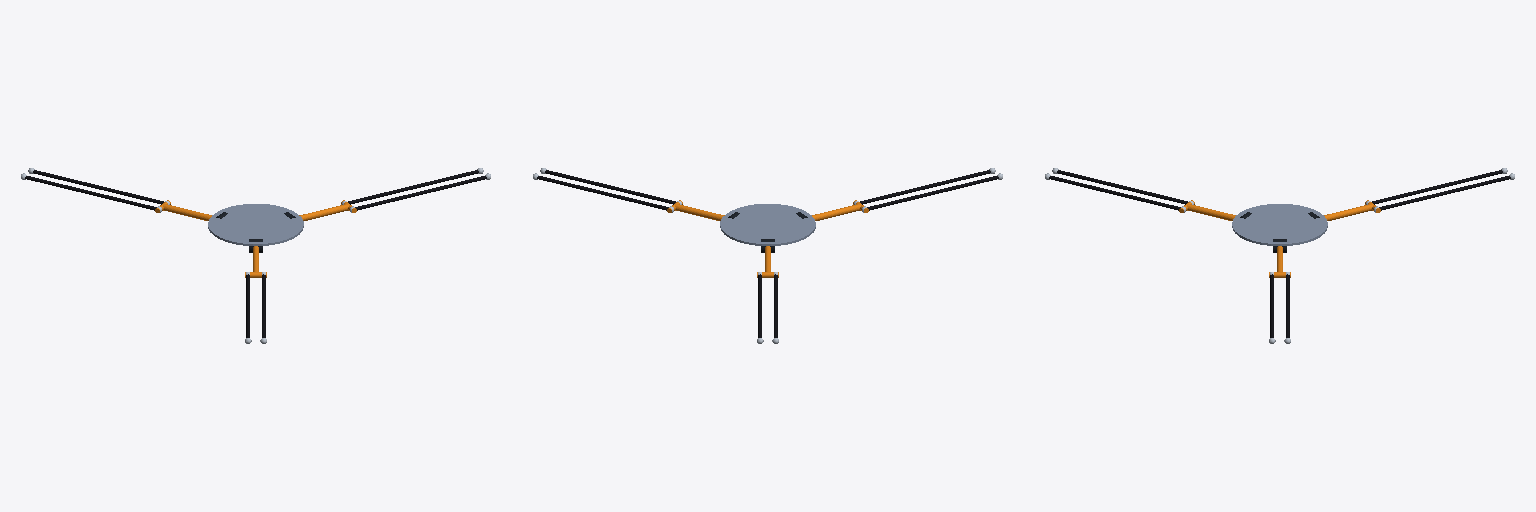
The robot description file, URDF, robot "delta_robot":
<?xml version="1.0"?>
<!-- generated by deltarobot.urdf — R=0.2 r=0.05 L=0.35 l=0.8 w=0.08 motor=ac_servo_400w tool=suction_40 -->
<robot name="delta_robot">
  <material name="frame"><color rgba="0.55 0.6 0.68 1"/></material>
  <material name="motor"><color rgba="0.15 0.17 0.2 1"/></material>
  <material name="arm"><color rgba="0.9 0.55 0.15 1"/></material>
  <material name="rod"><color rgba="0.12 0.12 0.14 1"/></material>
  <material name="joint"><color rgba="0.75 0.78 0.82 1"/></material>
  <material name="plate"><color rgba="0.25 0.55 0.9 1"/></material>
  <material name="tool"><color rgba="0.2 0.75 0.5 1"/></material>
  <link name="base_link">
    <visual>
      <origin xyz="0 0 0.026" rpy="0 0 0"/>
      <geometry><cylinder radius="0.246" length="0.012"/></geometry>
      <material name="frame"/>
    </visual>
    <visual>
      <origin xyz="0.2 0 0" rpy="1.570796 0 0"/>
      <geometry><cylinder radius="0.036" length="0.07"/></geometry>
      <material name="motor"/>
    </visual>
    <visual>
      <origin xyz="-0.1 0.173205 0" rpy="1.570796 0 2.094395"/>
      <geometry><cylinder radius="0.036" length="0.07"/></geometry>
      <material name="motor"/>
    </visual>
    <visual>
      <origin xyz="-0.1 -0.173205 0" rpy="1.570796 0 4.18879"/>
      <geometry><cylinder radius="0.036" length="0.07"/></geometry>
      <material name="motor"/>
    </visual>
    <inertial>
      <origin xyz="0 0 0.02" rpy="0 0 0"/>
      <mass value="4.1"/>
      <inertia ixx="0.01" ixy="0" ixz="0" iyy="0.01" iyz="0" izz="0.02"/>
    </inertial>
  </link>
  <joint name="motor1_joint" type="revolute">
    <parent link="base_link"/>
    <child link="upper_arm1"/>
    <origin xyz="0.2 0 0" rpy="0 0 0"/>
    <axis xyz="0 1 0"/>
    <limit lower="-0.7" upper="1.5" effort="68.76" velocity="26.18"/>
  </joint>
  <link name="upper_arm1">
    <visual>
      <origin xyz="0.175 0 0" rpy="0 1.570796 0"/>
      <geometry><cylinder radius="0.0175" length="0.35"/></geometry>
      <material name="arm"/>
    </visual>
    <visual>
      <origin xyz="0.35 0 0" rpy="1.570796 0 0"/>
      <geometry><cylinder radius="0.014" length="0.115"/></geometry>
      <material name="arm"/>
    </visual>
    <inertial>
      <origin xyz="0.175 0 0" rpy="0 0 0"/>
      <mass value="0.04935"/>
      <inertia ixx="0.00001" ixy="0" ixz="0" iyy="0.000365" iyz="0" izz="0.000365"/>
    </inertial>
  </link>
  <joint name="elbow1a_pitch" type="revolute">
    <parent link="upper_arm1"/>
    <child link="elbow1a_link"/>
    <origin xyz="0.35 0.04 0" rpy="0 0 0"/>
    <axis xyz="0 1 0"/>
    <limit lower="-3.141593" upper="3.141593" effort="0" velocity="0"/>
  </joint>
  <link name="elbow1a_link"/>
  <joint name="elbow1a_yaw" type="revolute">
    <parent link="elbow1a_link"/>
    <child link="forearm1a"/>
    <origin xyz="0 0 0" rpy="0 0 0"/>
    <axis xyz="0 0 1"/>
    <limit lower="-1.570796" upper="1.570796" effort="0" velocity="0"/>
  </joint>
  <link name="forearm1a">
    <visual>
      <origin xyz="0.4 0 0" rpy="0 1.570796 0"/>
      <geometry><cylinder radius="0.0096" length="0.8"/></geometry>
      <material name="rod"/>
    </visual>
    <visual>
      <origin xyz="0 0 0" rpy="0 0 0"/>
      <geometry><sphere radius="0.01728"/></geometry>
      <material name="joint"/>
    </visual>
    <visual>
      <origin xyz="0.8 0 0" rpy="0 0 0"/>
      <geometry><sphere radius="0.01728"/></geometry>
      <material name="joint"/>
    </visual>
    <inertial>
      <origin xyz="0.4 0 0" rpy="0 0 0"/>
      <mass value="0.044"/>
      <inertia ixx="0.000001" ixy="0" ixz="0" iyy="0.002347" iyz="0" izz="0.002347"/>
    </inertial>
  </link>
  <joint name="elbow1b_pitch" type="revolute">
    <parent link="upper_arm1"/>
    <child link="elbow1b_link"/>
    <origin xyz="0.35 -0.04 0" rpy="0 0 0"/>
    <axis xyz="0 1 0"/>
    <limit lower="-3.141593" upper="3.141593" effort="0" velocity="0"/>
    <mimic joint="elbow1a_pitch" multiplier="1" offset="0"/>
  </joint>
  <link name="elbow1b_link"/>
  <joint name="elbow1b_yaw" type="revolute">
    <parent link="elbow1b_link"/>
    <child link="forearm1b"/>
    <origin xyz="0 0 0" rpy="0 0 0"/>
    <axis xyz="0 0 1"/>
    <limit lower="-1.570796" upper="1.570796" effort="0" velocity="0"/>
    <mimic joint="elbow1a_yaw" multiplier="1" offset="0"/>
  </joint>
  <link name="forearm1b">
    <visual>
      <origin xyz="0.4 0 0" rpy="0 1.570796 0"/>
      <geometry><cylinder radius="0.0096" length="0.8"/></geometry>
      <material name="rod"/>
    </visual>
    <visual>
      <origin xyz="0 0 0" rpy="0 0 0"/>
      <geometry><sphere radius="0.01728"/></geometry>
      <material name="joint"/>
    </visual>
    <visual>
      <origin xyz="0.8 0 0" rpy="0 0 0"/>
      <geometry><sphere radius="0.01728"/></geometry>
      <material name="joint"/>
    </visual>
    <inertial>
      <origin xyz="0.4 0 0" rpy="0 0 0"/>
      <mass value="0.044"/>
      <inertia ixx="0.000001" ixy="0" ixz="0" iyy="0.002347" iyz="0" izz="0.002347"/>
    </inertial>
  </link>
  <joint name="motor2_joint" type="revolute">
    <parent link="base_link"/>
    <child link="upper_arm2"/>
    <origin xyz="-0.1 0.173205 0" rpy="0 0 2.094395"/>
    <axis xyz="0 1 0"/>
    <limit lower="-0.7" upper="1.5" effort="68.76" velocity="26.18"/>
  </joint>
  <link name="upper_arm2">
    <visual>
      <origin xyz="0.175 0 0" rpy="0 1.570796 0"/>
      <geometry><cylinder radius="0.0175" length="0.35"/></geometry>
      <material name="arm"/>
    </visual>
    <visual>
      <origin xyz="0.35 0 0" rpy="1.570796 0 0"/>
      <geometry><cylinder radius="0.014" length="0.115"/></geometry>
      <material name="arm"/>
    </visual>
    <inertial>
      <origin xyz="0.175 0 0" rpy="0 0 0"/>
      <mass value="0.04935"/>
      <inertia ixx="0.00001" ixy="0" ixz="0" iyy="0.000365" iyz="0" izz="0.000365"/>
    </inertial>
  </link>
  <joint name="elbow2a_pitch" type="revolute">
    <parent link="upper_arm2"/>
    <child link="elbow2a_link"/>
    <origin xyz="0.35 0.04 0" rpy="0 0 0"/>
    <axis xyz="0 1 0"/>
    <limit lower="-3.141593" upper="3.141593" effort="0" velocity="0"/>
  </joint>
  <link name="elbow2a_link"/>
  <joint name="elbow2a_yaw" type="revolute">
    <parent link="elbow2a_link"/>
    <child link="forearm2a"/>
    <origin xyz="0 0 0" rpy="0 0 0"/>
    <axis xyz="0 0 1"/>
    <limit lower="-1.570796" upper="1.570796" effort="0" velocity="0"/>
  </joint>
  <link name="forearm2a">
    <visual>
      <origin xyz="0.4 0 0" rpy="0 1.570796 0"/>
      <geometry><cylinder radius="0.0096" length="0.8"/></geometry>
      <material name="rod"/>
    </visual>
    <visual>
      <origin xyz="0 0 0" rpy="0 0 0"/>
      <geometry><sphere radius="0.01728"/></geometry>
      <material name="joint"/>
    </visual>
    <visual>
      <origin xyz="0.8 0 0" rpy="0 0 0"/>
      <geometry><sphere radius="0.01728"/></geometry>
      <material name="joint"/>
    </visual>
    <inertial>
      <origin xyz="0.4 0 0" rpy="0 0 0"/>
      <mass value="0.044"/>
      <inertia ixx="0.000001" ixy="0" ixz="0" iyy="0.002347" iyz="0" izz="0.002347"/>
    </inertial>
  </link>
  <joint name="elbow2b_pitch" type="revolute">
    <parent link="upper_arm2"/>
    <child link="elbow2b_link"/>
    <origin xyz="0.35 -0.04 0" rpy="0 0 0"/>
    <axis xyz="0 1 0"/>
    <limit lower="-3.141593" upper="3.141593" effort="0" velocity="0"/>
    <mimic joint="elbow2a_pitch" multiplier="1" offset="0"/>
  </joint>
  <link name="elbow2b_link"/>
  <joint name="elbow2b_yaw" type="revolute">
    <parent link="elbow2b_link"/>
    <child link="forearm2b"/>
    <origin xyz="0 0 0" rpy="0 0 0"/>
    <axis xyz="0 0 1"/>
    <limit lower="-1.570796" upper="1.570796" effort="0" velocity="0"/>
    <mimic joint="elbow2a_yaw" multiplier="1" offset="0"/>
  </joint>
  <link name="forearm2b">
    <visual>
      <origin xyz="0.4 0 0" rpy="0 1.570796 0"/>
      <geometry><cylinder radius="0.0096" length="0.8"/></geometry>
      <material name="rod"/>
    </visual>
    <visual>
      <origin xyz="0 0 0" rpy="0 0 0"/>
      <geometry><sphere radius="0.01728"/></geometry>
      <material name="joint"/>
    </visual>
    <visual>
      <origin xyz="0.8 0 0" rpy="0 0 0"/>
      <geometry><sphere radius="0.01728"/></geometry>
      <material name="joint"/>
    </visual>
    <inertial>
      <origin xyz="0.4 0 0" rpy="0 0 0"/>
      <mass value="0.044"/>
      <inertia ixx="0.000001" ixy="0" ixz="0" iyy="0.002347" iyz="0" izz="0.002347"/>
    </inertial>
  </link>
  <joint name="motor3_joint" type="revolute">
    <parent link="base_link"/>
    <child link="upper_arm3"/>
    <origin xyz="-0.1 -0.173205 0" rpy="0 0 4.18879"/>
    <axis xyz="0 1 0"/>
    <limit lower="-0.7" upper="1.5" effort="68.76" velocity="26.18"/>
  </joint>
  <link name="upper_arm3">
    <visual>
      <origin xyz="0.175 0 0" rpy="0 1.570796 0"/>
      <geometry><cylinder radius="0.0175" length="0.35"/></geometry>
      <material name="arm"/>
    </visual>
    <visual>
      <origin xyz="0.35 0 0" rpy="1.570796 0 0"/>
      <geometry><cylinder radius="0.014" length="0.115"/></geometry>
      <material name="arm"/>
    </visual>
    <inertial>
      <origin xyz="0.175 0 0" rpy="0 0 0"/>
      <mass value="0.04935"/>
      <inertia ixx="0.00001" ixy="0" ixz="0" iyy="0.000365" iyz="0" izz="0.000365"/>
    </inertial>
  </link>
  <joint name="elbow3a_pitch" type="revolute">
    <parent link="upper_arm3"/>
    <child link="elbow3a_link"/>
    <origin xyz="0.35 0.04 0" rpy="0 0 0"/>
    <axis xyz="0 1 0"/>
    <limit lower="-3.141593" upper="3.141593" effort="0" velocity="0"/>
  </joint>
  <link name="elbow3a_link"/>
  <joint name="elbow3a_yaw" type="revolute">
    <parent link="elbow3a_link"/>
    <child link="forearm3a"/>
    <origin xyz="0 0 0" rpy="0 0 0"/>
    <axis xyz="0 0 1"/>
    <limit lower="-1.570796" upper="1.570796" effort="0" velocity="0"/>
  </joint>
  <link name="forearm3a">
    <visual>
      <origin xyz="0.4 0 0" rpy="0 1.570796 0"/>
      <geometry><cylinder radius="0.0096" length="0.8"/></geometry>
      <material name="rod"/>
    </visual>
    <visual>
      <origin xyz="0 0 0" rpy="0 0 0"/>
      <geometry><sphere radius="0.01728"/></geometry>
      <material name="joint"/>
    </visual>
    <visual>
      <origin xyz="0.8 0 0" rpy="0 0 0"/>
      <geometry><sphere radius="0.01728"/></geometry>
      <material name="joint"/>
    </visual>
    <inertial>
      <origin xyz="0.4 0 0" rpy="0 0 0"/>
      <mass value="0.044"/>
      <inertia ixx="0.000001" ixy="0" ixz="0" iyy="0.002347" iyz="0" izz="0.002347"/>
    </inertial>
  </link>
  <joint name="elbow3b_pitch" type="revolute">
    <parent link="upper_arm3"/>
    <child link="elbow3b_link"/>
    <origin xyz="0.35 -0.04 0" rpy="0 0 0"/>
    <axis xyz="0 1 0"/>
    <limit lower="-3.141593" upper="3.141593" effort="0" velocity="0"/>
    <mimic joint="elbow3a_pitch" multiplier="1" offset="0"/>
  </joint>
  <link name="elbow3b_link"/>
  <joint name="elbow3b_yaw" type="revolute">
    <parent link="elbow3b_link"/>
    <child link="forearm3b"/>
    <origin xyz="0 0 0" rpy="0 0 0"/>
    <axis xyz="0 0 1"/>
    <limit lower="-1.570796" upper="1.570796" effort="0" velocity="0"/>
    <mimic joint="elbow3a_yaw" multiplier="1" offset="0"/>
  </joint>
  <link name="forearm3b">
    <visual>
      <origin xyz="0.4 0 0" rpy="0 1.570796 0"/>
      <geometry><cylinder radius="0.0096" length="0.8"/></geometry>
      <material name="rod"/>
    </visual>
    <visual>
      <origin xyz="0 0 0" rpy="0 0 0"/>
      <geometry><sphere radius="0.01728"/></geometry>
      <material name="joint"/>
    </visual>
    <visual>
      <origin xyz="0.8 0 0" rpy="0 0 0"/>
      <geometry><sphere radius="0.01728"/></geometry>
      <material name="joint"/>
    </visual>
    <inertial>
      <origin xyz="0.4 0 0" rpy="0 0 0"/>
      <mass value="0.044"/>
      <inertia ixx="0.000001" ixy="0" ixz="0" iyy="0.002347" iyz="0" izz="0.002347"/>
    </inertial>
  </link>
  <joint name="effector_x" type="prismatic">
    <parent link="base_link"/>
    <child link="effector_x_link"/>
    <origin xyz="0 0 0" rpy="0 0 0"/>
    <axis xyz="1 0 0"/>
    <limit lower="-1.3" upper="1.3" effort="0" velocity="0"/>
  </joint>
  <link name="effector_x_link"/>
  <joint name="effector_y" type="prismatic">
    <parent link="effector_x_link"/>
    <child link="effector_y_link"/>
    <origin xyz="0 0 0" rpy="0 0 0"/>
    <axis xyz="0 1 0"/>
    <limit lower="-1.3" upper="1.3" effort="0" velocity="0"/>
  </joint>
  <link name="effector_y_link"/>
  <joint name="effector_z" type="prismatic">
    <parent link="effector_y_link"/>
    <child link="effector"/>
    <origin xyz="0 0 0" rpy="0 0 0"/>
    <axis xyz="0 0 1"/>
    <limit lower="-1.15" upper="0" effort="0" velocity="0"/>
  </joint>
  <link name="effector">
    <visual>
      <origin xyz="0 0 0" rpy="0 0 0"/>
      <geometry><cylinder radius="0.062" length="0.01"/></geometry>
      <material name="plate"/>
    </visual>
    <inertial>
      <origin xyz="0 0 0" rpy="0 0 0"/>
      <mass value="0.25"/>
      <inertia ixx="0.0001" ixy="0" ixz="0" iyy="0.0001" iyz="0" izz="0.0002"/>
    </inertial>
  </link>
  <joint name="tool_joint" type="fixed">
    <parent link="effector"/>
    <child link="tool_link"/>
    <origin xyz="0 0 -0.005" rpy="0 0 0"/>
  </joint>
  <link name="tool_link">
    <visual>
      <origin xyz="0 0 -0.021" rpy="0 0 0"/>
      <geometry><cylinder radius="0.006" length="0.042"/></geometry>
      <material name="tool"/>
    </visual>
    <visual>
      <origin xyz="0 0 -0.046" rpy="0 0 0"/>
      <geometry><cylinder radius="0.02" length="0.008"/></geometry>
      <material name="tool"/>
    </visual>
    <inertial>
      <origin xyz="0 0 -0.025" rpy="0 0 0"/>
      <mass value="0.05"/>
      <inertia ixx="0.00001" ixy="0" ixz="0" iyy="0.00001" iyz="0" izz="0.00001"/>
    </inertial>
  </link>
  <joint name="tcp_joint" type="fixed">
    <parent link="tool_link"/>
    <child link="tcp"/>
    <origin xyz="0 0 -0.045" rpy="0 0 0"/>
  </joint>
  <link name="tcp"/>
</robot>

--- Render facts (derived) ---
The picture shows the robot from 3 angles, left to right: view 1: azimuth 30°, elevation 25°; view 2: azimuth 150°, elevation 25°; view 3: azimuth 270°, elevation 25°; orthographic projection.
Robot: delta_robot — 21 links, 20 joints (15 revolute, 3 prismatic, 2 fixed); root link base_link; default pose: all joints at 0.
Links seen in each view (by area): view 1: base_link, forearm1b, forearm2a, forearm1a, forearm2b; view 2: base_link, forearm1a, forearm3b, forearm1b, forearm3a; view 3: base_link, forearm2b, forearm3a, forearm2a, forearm3b.
Link boxes in pixels (x1,y1,x2,y2): base_link: [208, 204, 303, 252]; forearm1b: [350, 173, 490, 212]; forearm2a: [21, 173, 161, 212]; forearm1a: [342, 168, 483, 204]; forearm2b: [28, 168, 169, 204]; base_link: [720, 204, 815, 252]; forearm1a: [533, 173, 673, 212]; forearm3b: [862, 173, 1002, 212]; forearm1b: [540, 168, 681, 204]; forearm3a: [854, 168, 995, 204]; base_link: [1232, 204, 1327, 252]; forearm2b: [1374, 173, 1514, 212]; forearm3a: [1045, 173, 1185, 212]; forearm2a: [1366, 168, 1507, 204]; forearm3b: [1052, 168, 1193, 204].
Bounding box of the posed robot: 2.09 × 2.41 × 0.091 m (x, y, z).
Geometry: primitives only (box / cylinder / sphere), no mesh files.
